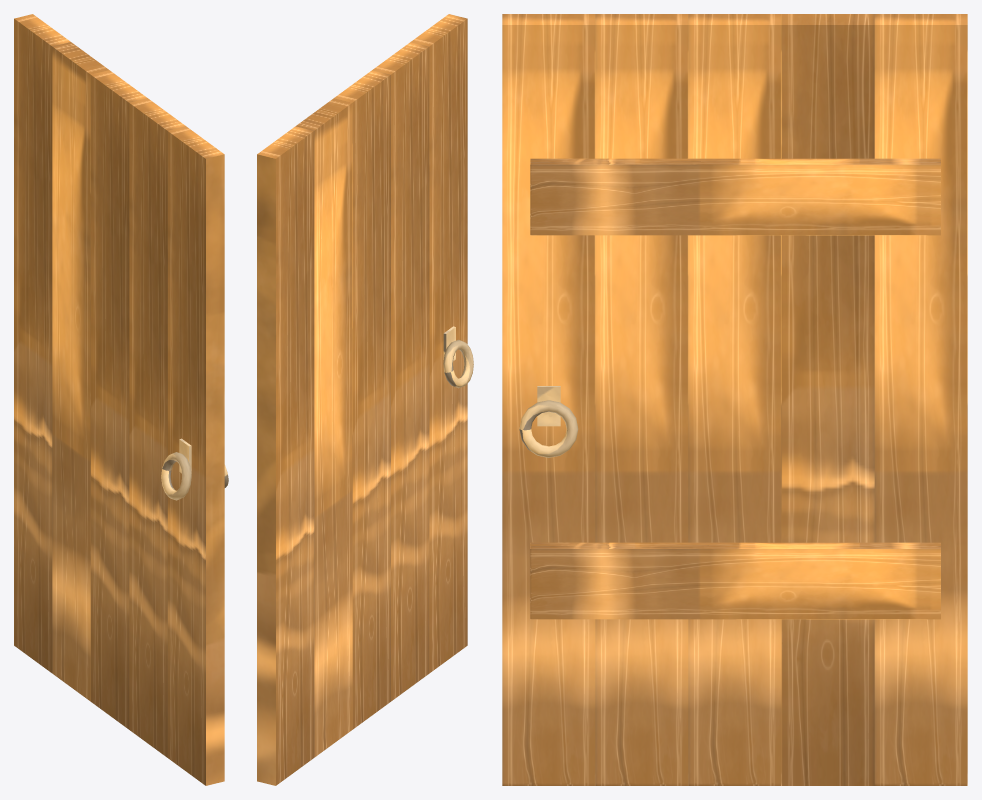
File: SM_Door_01.fbx
3 renders of one model, left to right at view 1: azimuth 30°, elevation 25°; view 2: azimuth 150°, elevation 25°; view 3: azimuth 270°, elevation 25°, orthographic. The views are drawn at different scales.
Parts seen in each view (by area): view 1: SM_Door_01_LOD0; view 2: SM_Door_01_LOD0; view 3: SM_Door_01_LOD0.
Boxes of the visible parts, x1,y1,x2,y2 form: SM_Door_01_LOD0: (14,14,228,785); SM_Door_01_LOD0: (257,14,473,785); SM_Door_01_LOD0: (502,14,967,785).
Size of the model in its own units: 17.93 by 112 by 202.
